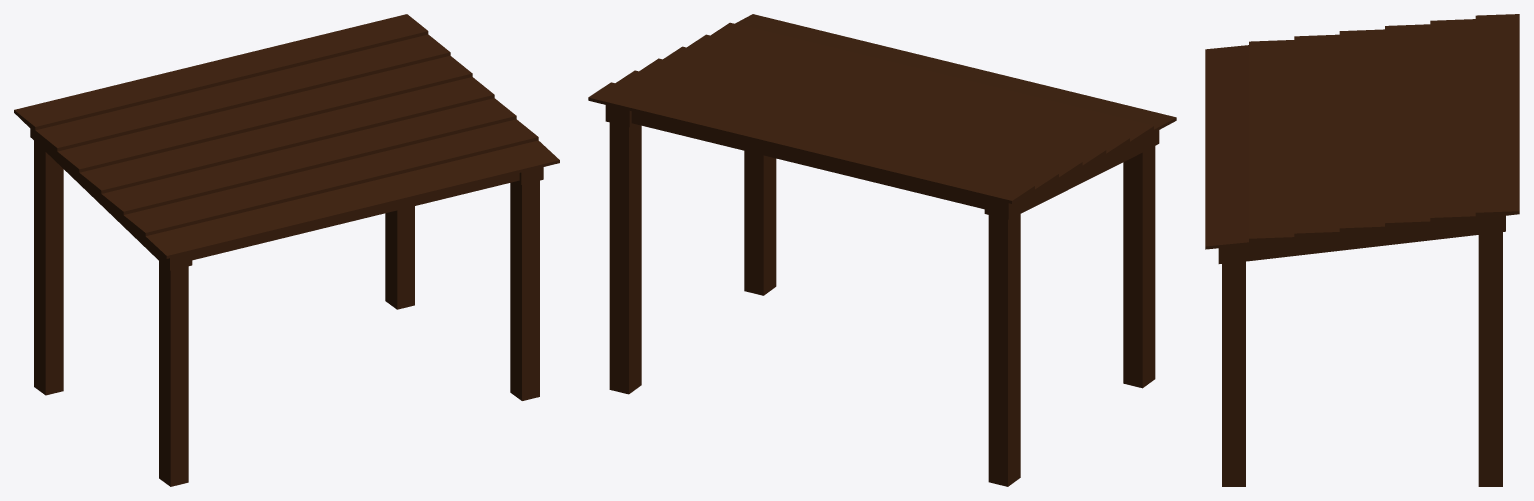
The model's file is ForgeCover_FBX.fbx.
3 renders of one model, left to right at view 1: azimuth 30°, elevation 25°; view 2: azimuth 150°, elevation 25°; view 3: azimuth 270°, elevation 25°, orthographic. The views are drawn at different scales.
Parts seen in each view (by area): view 1: Forge_Top; view 2: Forge_Top; view 3: Forge_Top.
Boxes of the visible parts, x1,y1,x2,y2 form: Forge_Top: [14, 14, 559, 486]; Forge_Top: [588, 14, 1176, 486]; Forge_Top: [1205, 14, 1519, 486].
Size of the model in its own units: 651 by 433 by 438.
